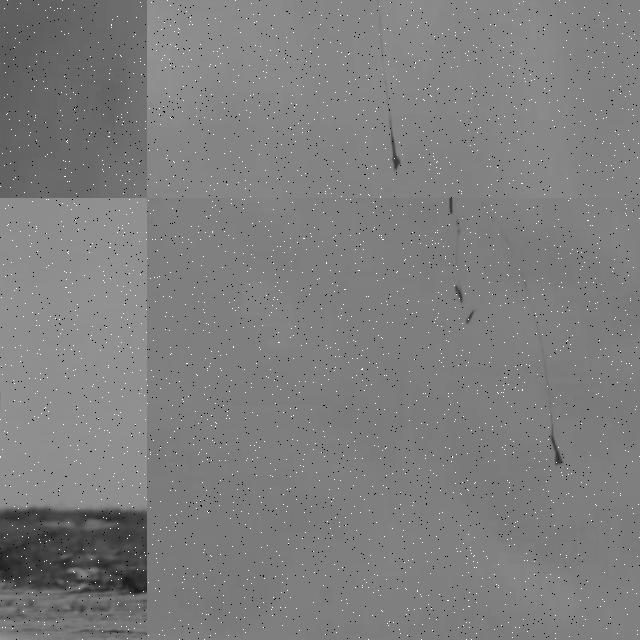Rocket: (550, 430, 565, 470), (389, 135, 401, 170)
